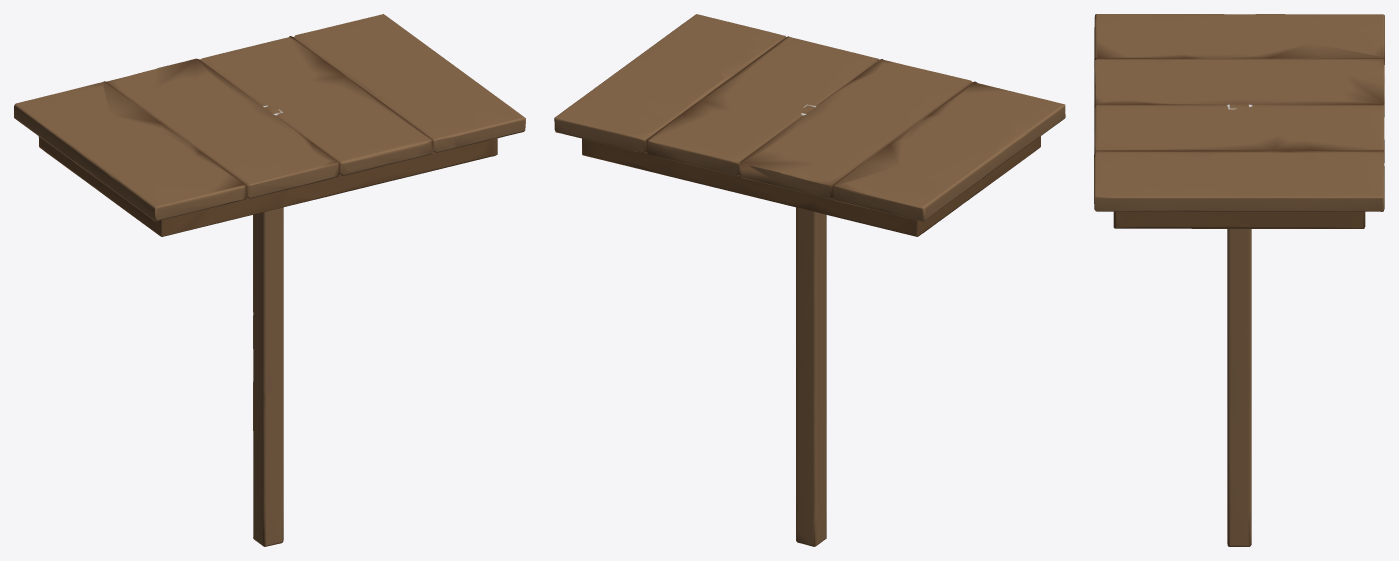
File: table.fbx
The picture shows the model from 3 angles, left to right: view 1: azimuth 30°, elevation 25°; view 2: azimuth 150°, elevation 25°; view 3: azimuth 270°, elevation 25°; orthographic projection.
Parts seen in each view (by area): view 1: M_TableTop, M_TableLeg; view 2: M_TableTop, M_TableLeg; view 3: M_TableTop, M_TableLeg.
Boxes of the visible parts, box(x1,y1,x2,y2) form: M_TableTop: box(14, 14, 525, 236); M_TableLeg: box(253, 105, 283, 546); M_TableTop: box(554, 14, 1065, 236); M_TableLeg: box(796, 105, 826, 546); M_TableTop: box(1094, 14, 1384, 228); M_TableLeg: box(1227, 104, 1251, 546).
Size of what is drawn, in the model's own units: 0.9007 by 1 by 0.6015.
